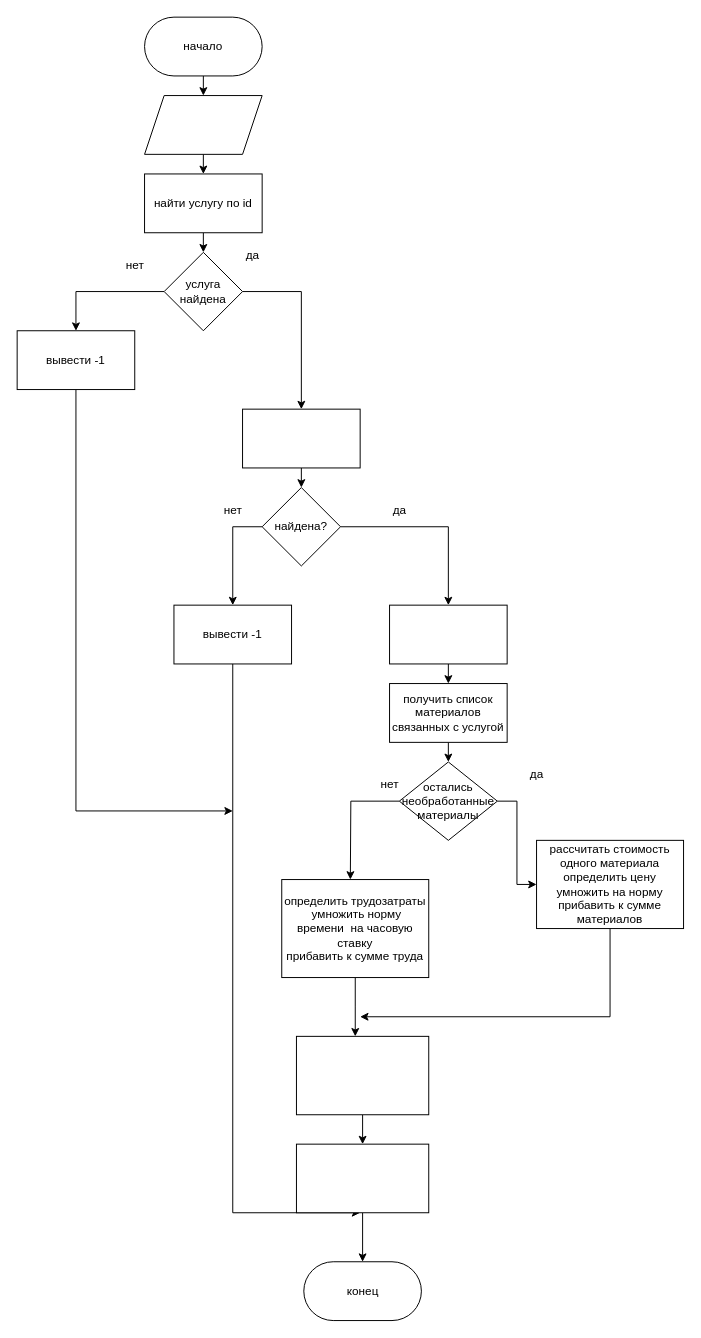
Some shapes in this 701 by 1338 pixel diagram are drawn without their labels. The centre of each missing label's shape, as x and y in pixels:
"ввод id услуги" goes at (203,124).
"вывести итоговую себестоимость" goes at (362,1178).
"инициализировать сумма материалов = 0 сумма труда" goes at (448,634).
"итоговая себестоимость = сумма материалов+сумма труда" goes at (362,1075).
"найти тип услуги" goes at (301,438).
